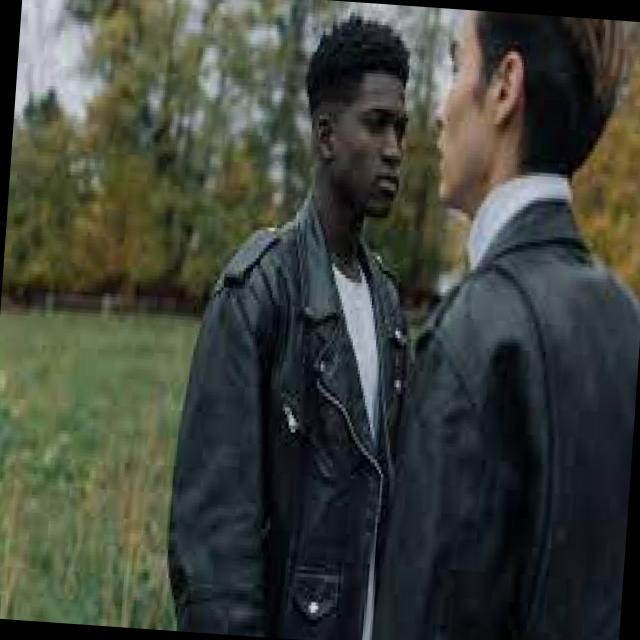Jacket: (148, 220, 429, 640), (379, 215, 640, 640)
